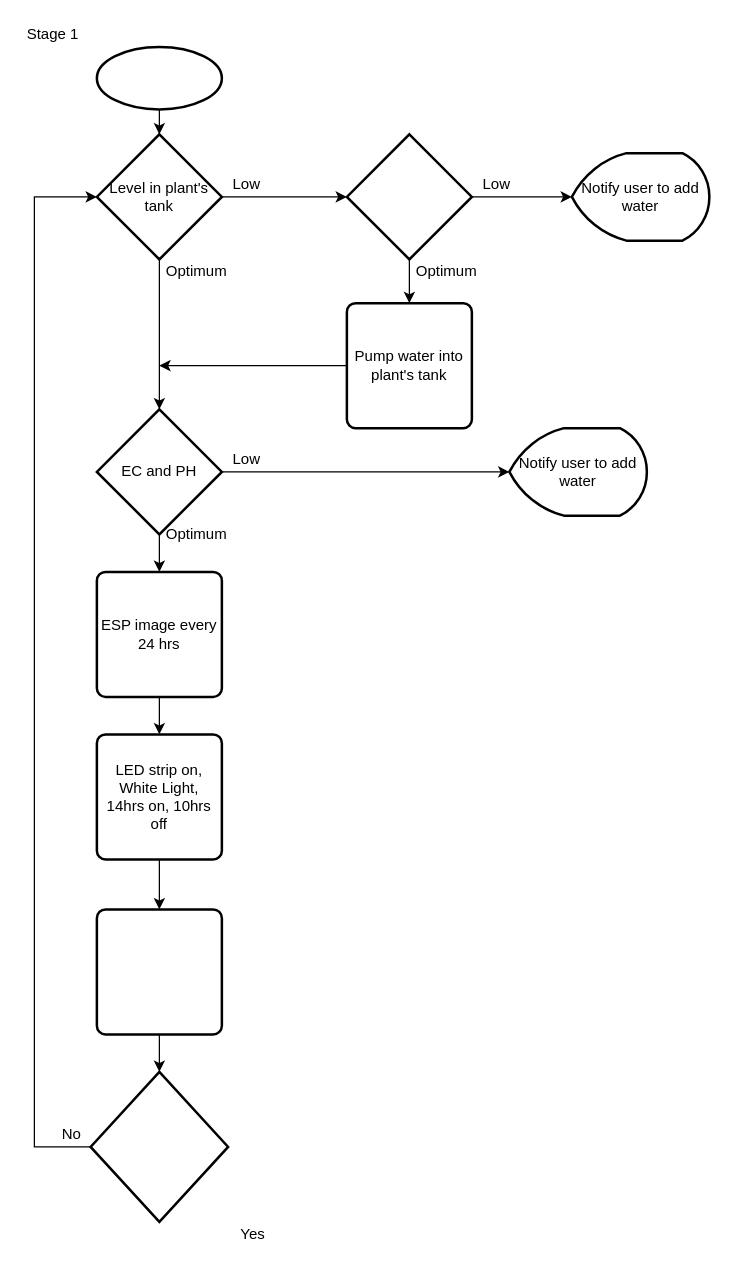
This 731x1268 diagram has some shape labels left out. Here are the shapes that lost their labels. From the top down, the box of each, then its label:
(95, 45, 222, 110): Start
(345, 132, 472, 260): Level in water tank
(95, 908, 222, 1035): Reduce water level every 18hrs, Refill every 6hrs
(89, 1070, 229, 1222): Deep learning module signal
